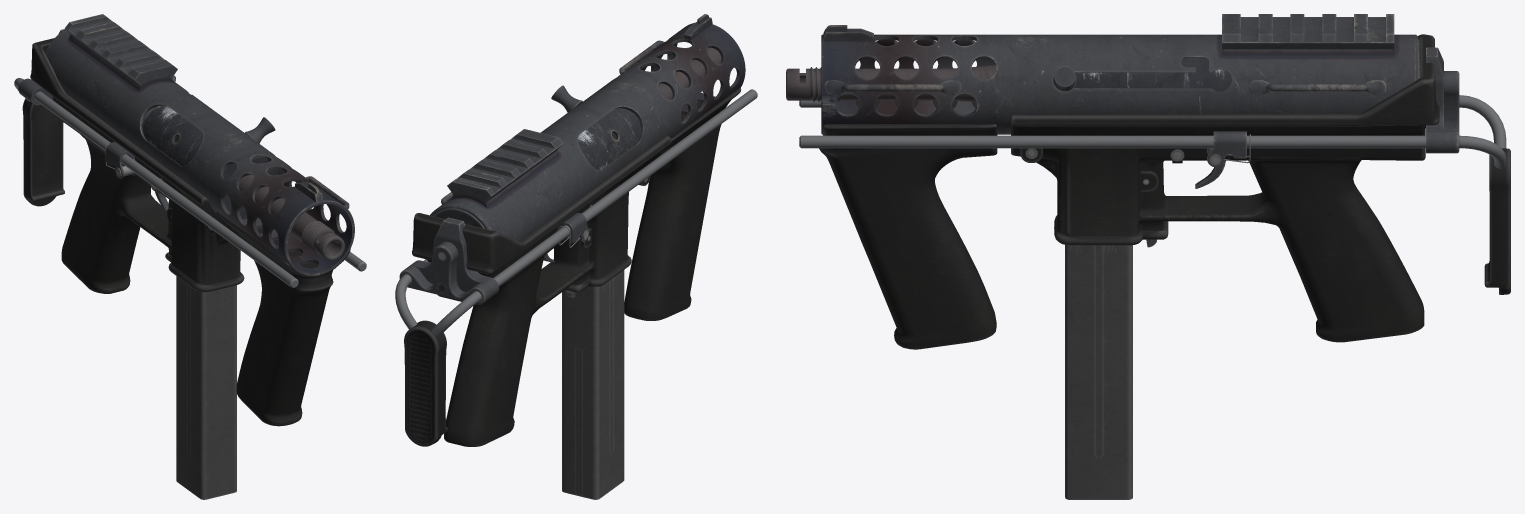
3 renders of one model, left to right at view 1: azimuth 30°, elevation 25°; view 2: azimuth 150°, elevation 25°; view 3: azimuth 270°, elevation 25°, orthographic. The views are drawn at different scales.
Visible parts, largest first — view 1: Cylinder.024, Cylinder.025, Cube.019, Plane.006, Cube.023, Cylinder.038, Vert.001, Cylinder.023, Cylinder.022, Cylinder.019, Cube.018; view 2: Cylinder.025, Cylinder.024, Cube.019, Plane.006, Cylinder.038, Vert.001, Cube.023, Cube.018, Cylinder.023, Cylinder.022, Cylinder.019; view 3: Cylinder.025, Cylinder.024, Plane.006, Cube.019, Vert.001, Cube.023, Cylinder.023, Cylinder.038, Cylinder.022, Cube.018, Vert.005, Vert.006 (+1 smaller).
Boxes of the visible parts, x1,y1,x2,y2 form: Cylinder.024: (45, 29, 354, 276); Cylinder.025: (30, 38, 244, 293); Cube.019: (176, 276, 236, 499); Plane.006: (216, 211, 350, 426); Cube.023: (64, 14, 177, 90); Cylinder.038: (22, 98, 64, 206); Vert.001: (14, 78, 366, 287); Cylinder.023: (142, 105, 278, 219); Cylinder.022: (239, 175, 344, 260); Cylinder.019: (106, 142, 136, 178); Cube.018: (18, 29, 64, 105); Cylinder.025: (412, 136, 671, 446); Cylinder.024: (430, 14, 745, 240); Cube.019: (562, 270, 624, 499); Plane.006: (624, 88, 741, 320); Cylinder.038: (404, 320, 447, 446); Vert.001: (395, 89, 757, 336); Cube.023: (447, 129, 563, 207); Cube.018: (399, 217, 499, 304); Cylinder.023: (433, 108, 640, 228); Cylinder.022: (658, 47, 721, 99); Cylinder.019: (557, 212, 589, 243); Cylinder.025: (1010, 34, 1439, 342); Cylinder.024: (821, 25, 1417, 134); Plane.006: (819, 124, 997, 349); Cube.019: (1065, 245, 1132, 499); Vert.001: (799, 95, 1506, 168); Cube.023: (1222, 14, 1394, 55); Cylinder.023: (1074, 39, 1419, 91); Cylinder.038: (1484, 148, 1510, 294); Cylinder.022: (786, 65, 996, 102); Cube.018: (1426, 47, 1459, 153); Vert.005: (824, 80, 961, 94); Vert.006: (1249, 80, 1386, 94).
Bounding box in the file's own units: 0.0624 × 0.2389 × 0.3374.
Materials: 2 (2 with a texture image).
